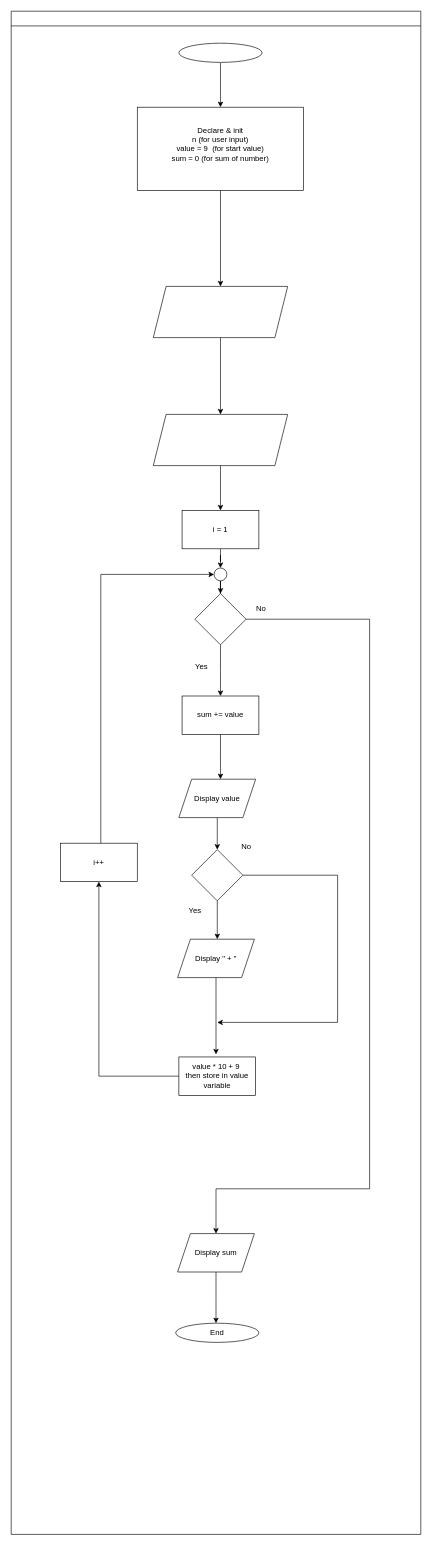
The diagram is 432 pixels wide and 1546 high, and some of its shapes have lost their labels. The centre of each missing label's shape, as x and y in pixels:
Display "Enter Number": the point at 220,312
i < n ?: the point at 217,875
i <= n ?: the point at 220,619
Read number: the point at 220,440
Start: the point at 220,52
